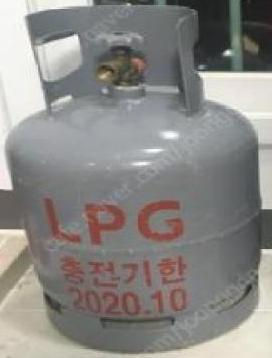cylinder: (1, 1, 272, 358)
